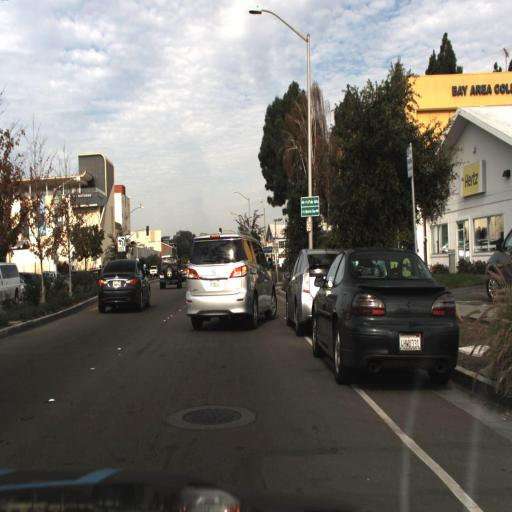car: (310, 238, 461, 388), (180, 220, 279, 341), (188, 235, 277, 323), (283, 247, 329, 335), (94, 250, 151, 317), (347, 240, 404, 288), (157, 249, 184, 290), (178, 260, 191, 292)
